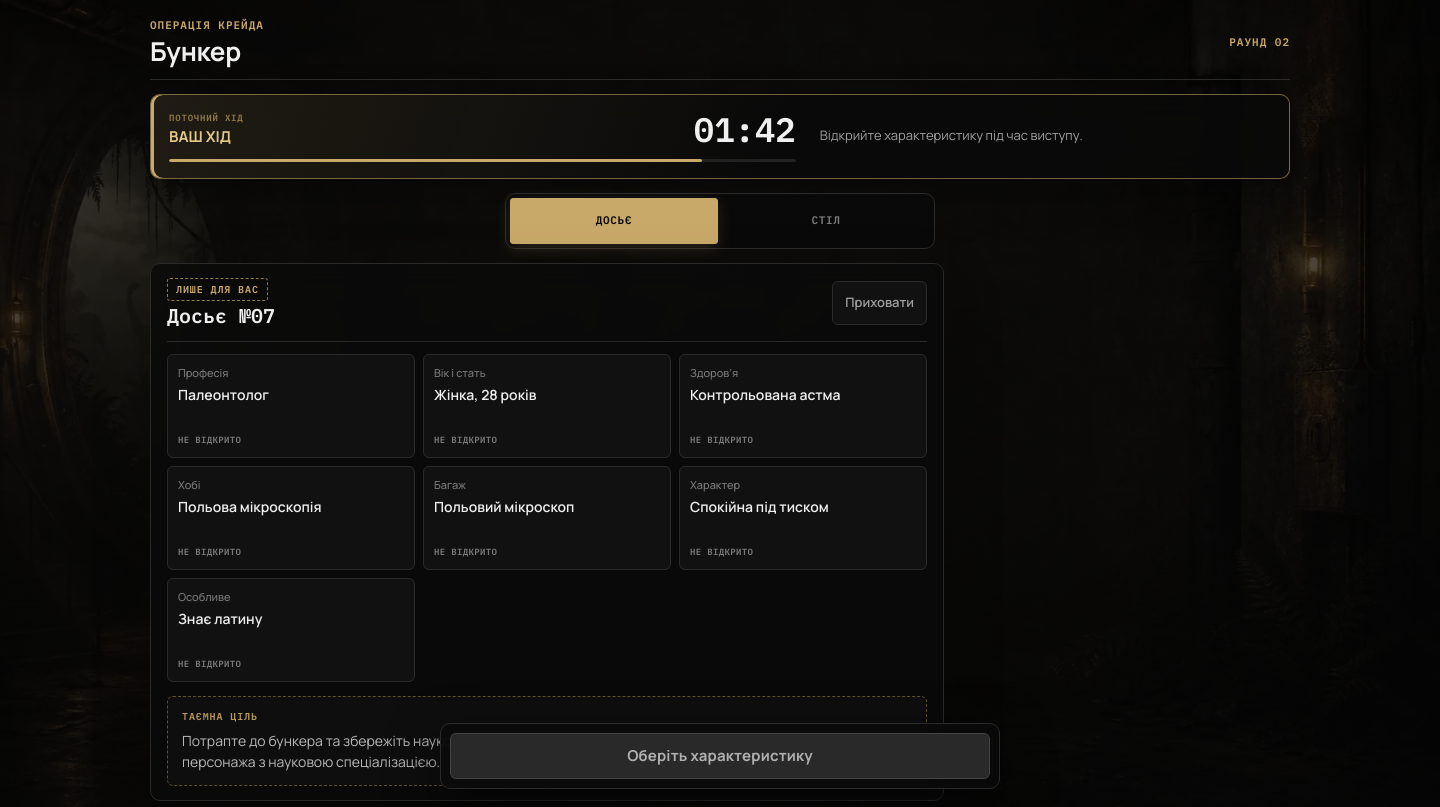
Test: App interactions › publishes a confirmed characteristic to the table view
The width and height of the screenshot is (1440, 807).
What coordinates should you click on to do the following:
click the button "Здоров’я Контрольована астма НЕ ВІДКРИТО"
I would click on:
 (803, 406)
Its box is [679,354,927,458].
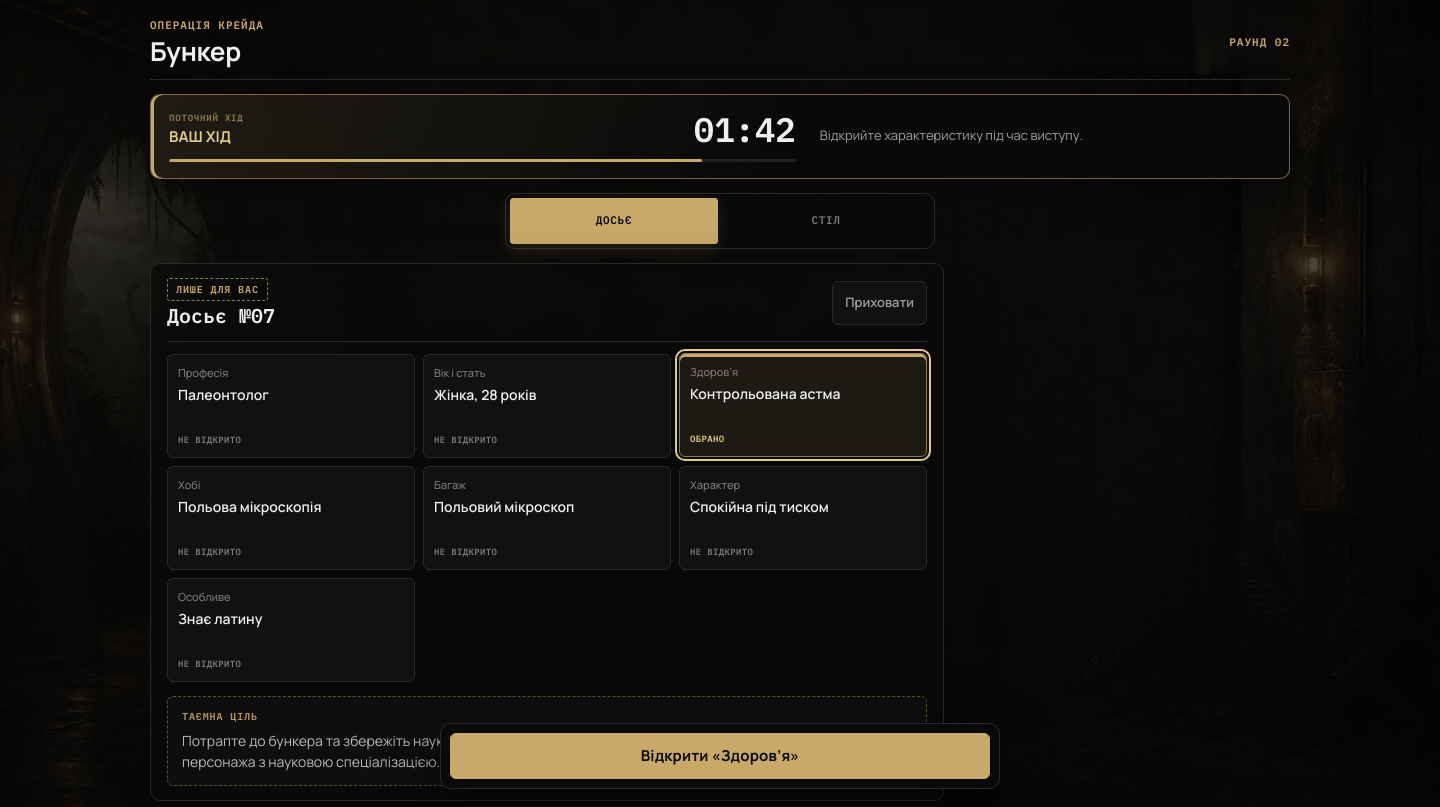
What coordinates should you click on to do the following:
click the button "Відкрити «Здоров’я»"
I would click on:
 (720, 756)
Its box is [450,733,990,779].
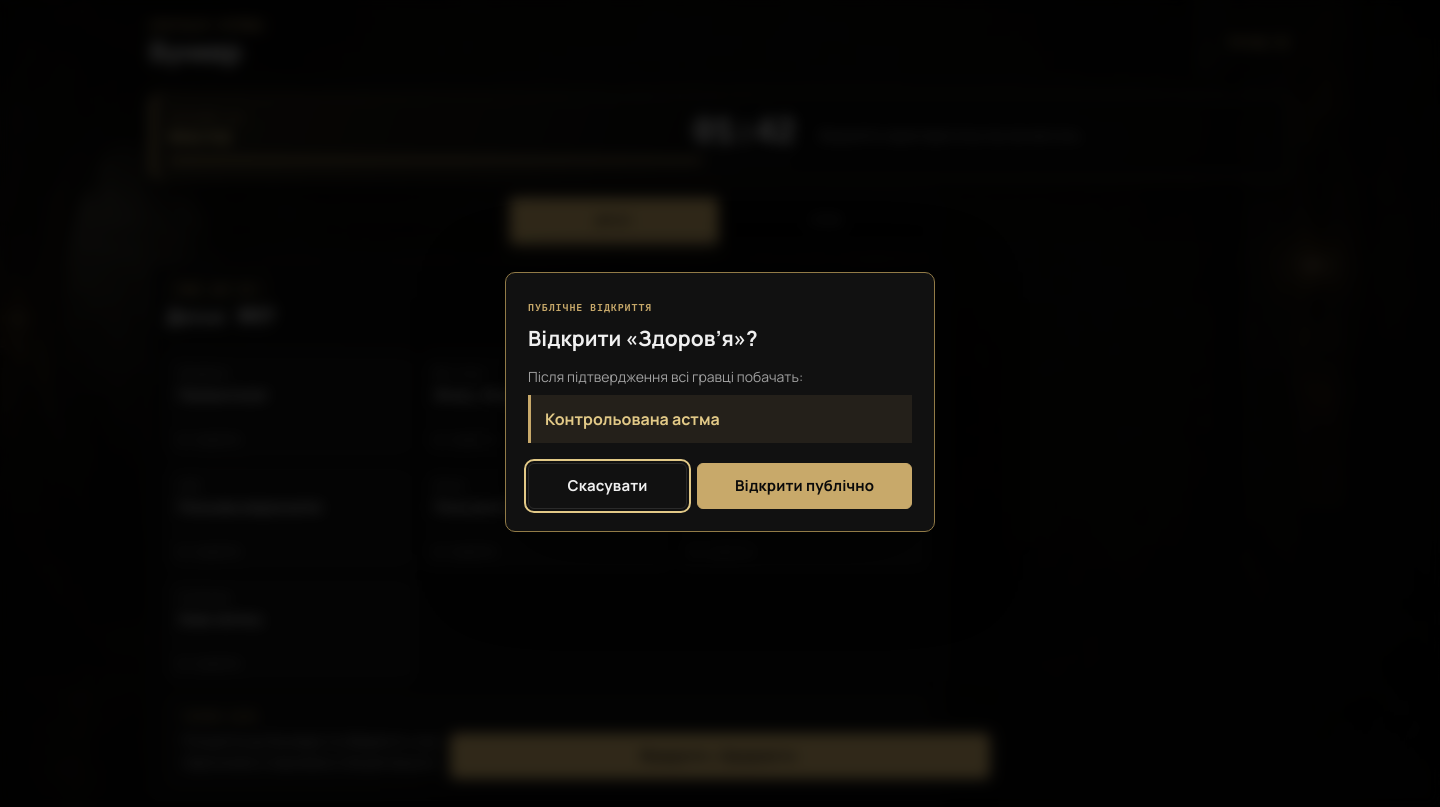
Check: the dialog "Відкрити «Здоров’я»?" is shown, box [505,272,935,532]
What coordinates should you click on to do the following:
click the button "Відкрити публічно"
I would click on:
 (805, 486)
Its box is [697,463,912,509].
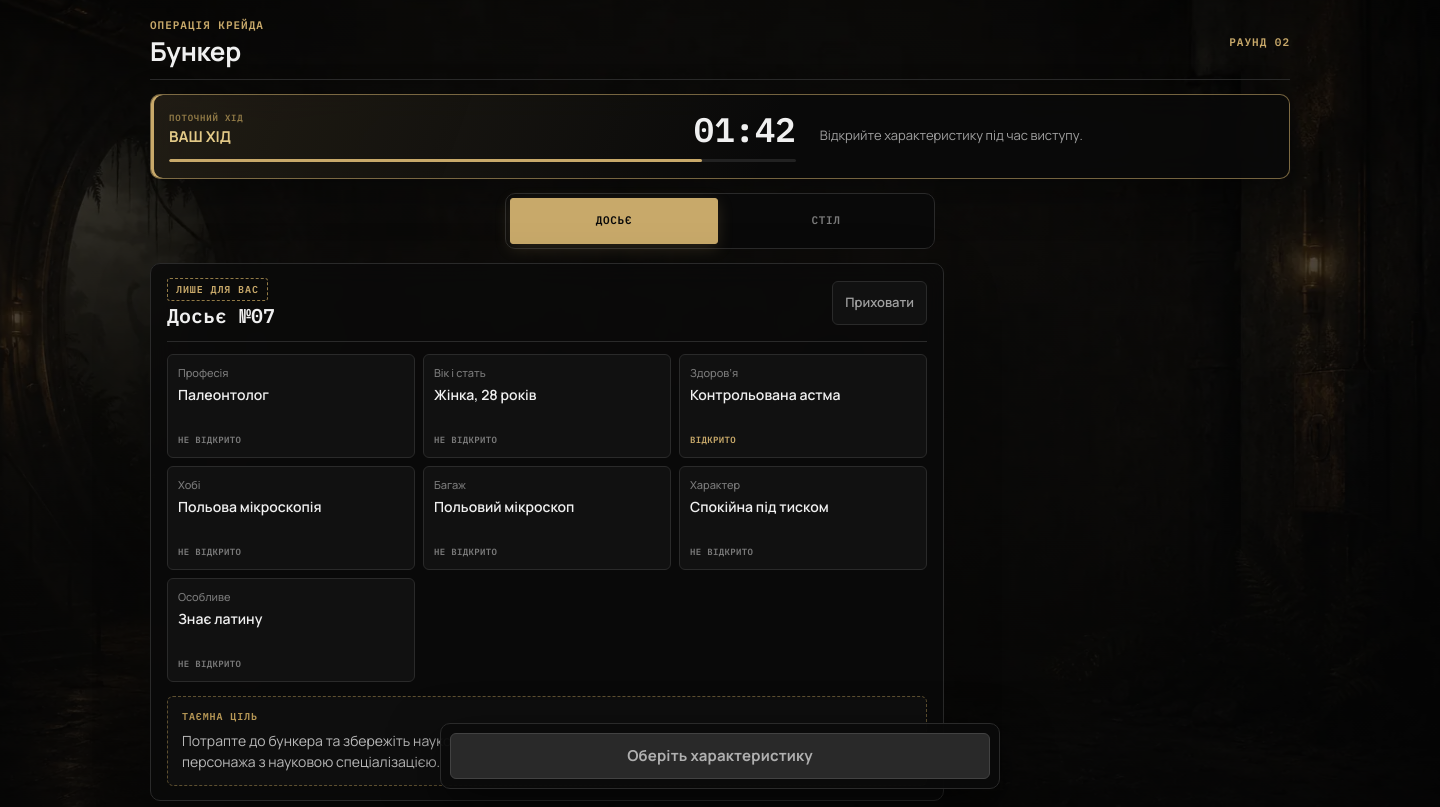
What coordinates should you click on to do the following:
click the button "Стіл"
I would click on:
 (826, 221)
Its box is [722,198,930,244].
(page scrolled)
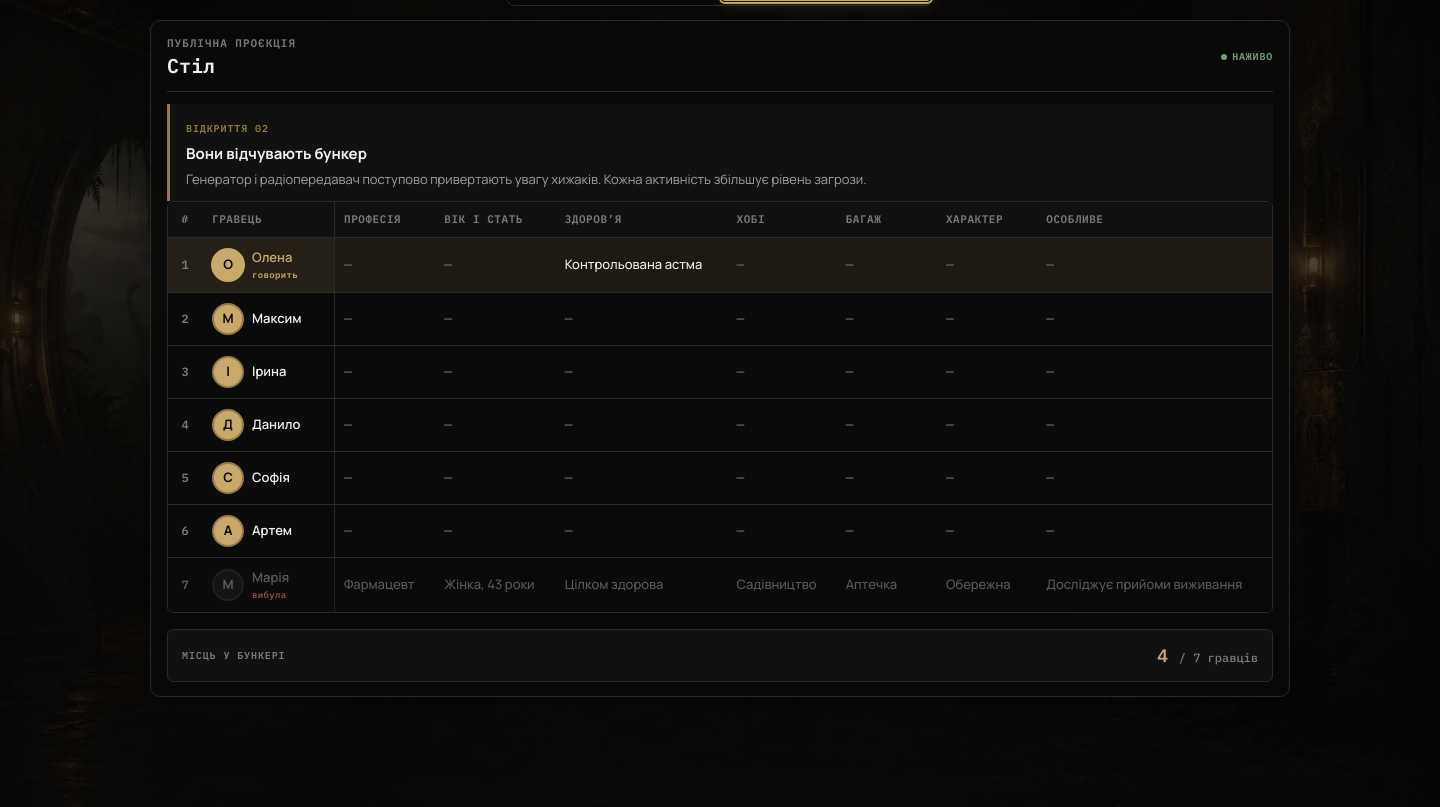
Check: the table named "Публічні характеристики гравців" shows "Контрольована астма", box [565,255,702,273]
Check: the text "ТАЄМНА ЦІЛЬ" is gone
